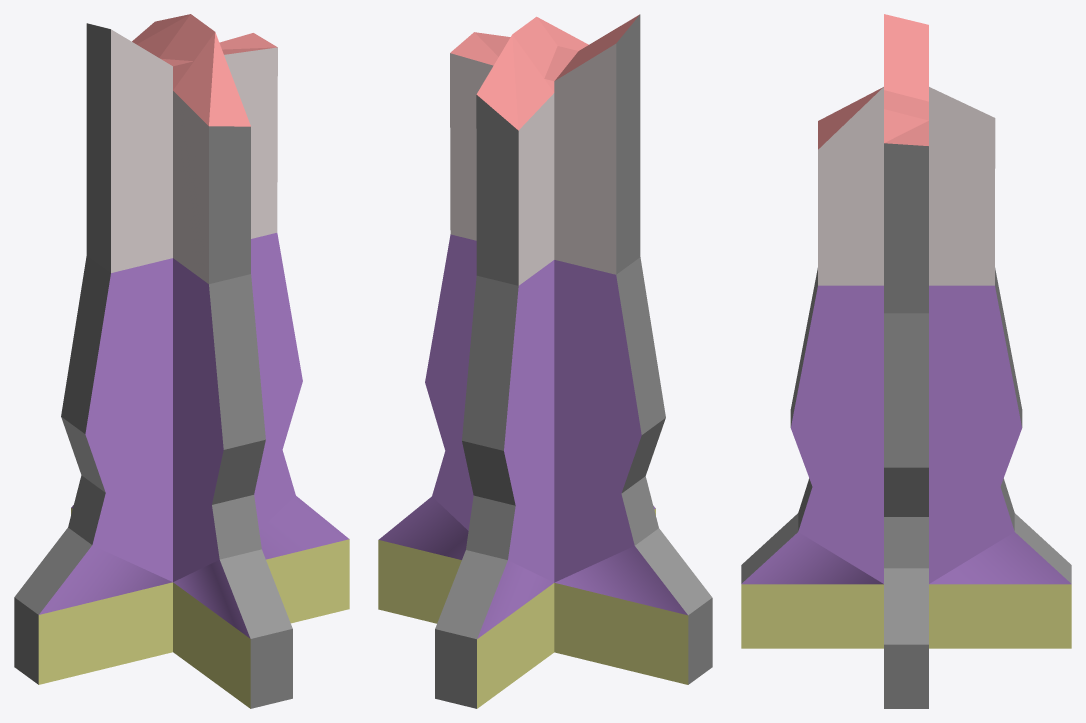
File: Oren_ded_s__altar_deco04.gltf
3 views of the same model, side by side, from view 1: azimuth 30°, elevation 25°; view 2: azimuth 150°, elevation 25°; view 3: azimuth 270°, elevation 25° (orthographic). The views are drawn at different scales.
Parts seen in each view (by area): view 1: altar_deco04; view 2: altar_deco04; view 3: altar_deco04.
Part boxes in pixels (box(x1,y1,x2,y2)): altar_deco04: box(14, 14, 349, 708); altar_deco04: box(378, 14, 712, 708); altar_deco04: box(741, 14, 1071, 708).
Size of the model in its own units: 1.6 by 3.13 by 1.6.
